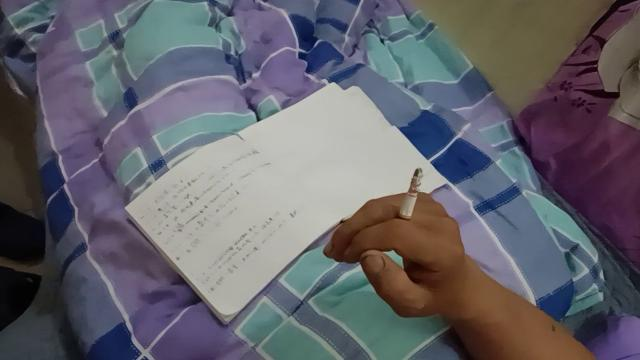Cigarette: (394, 168, 426, 231)
